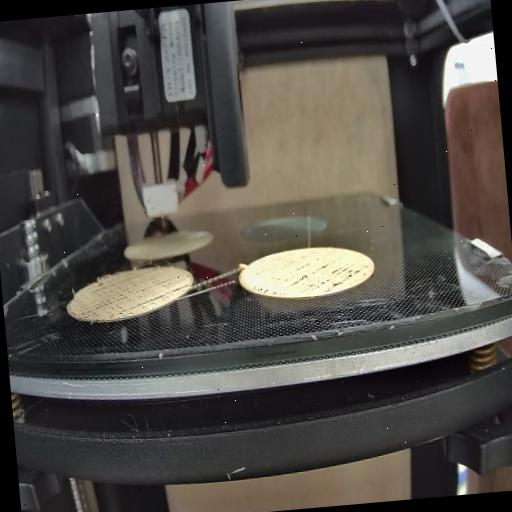under_extrusion: (82, 272, 191, 320), (250, 256, 372, 296)
